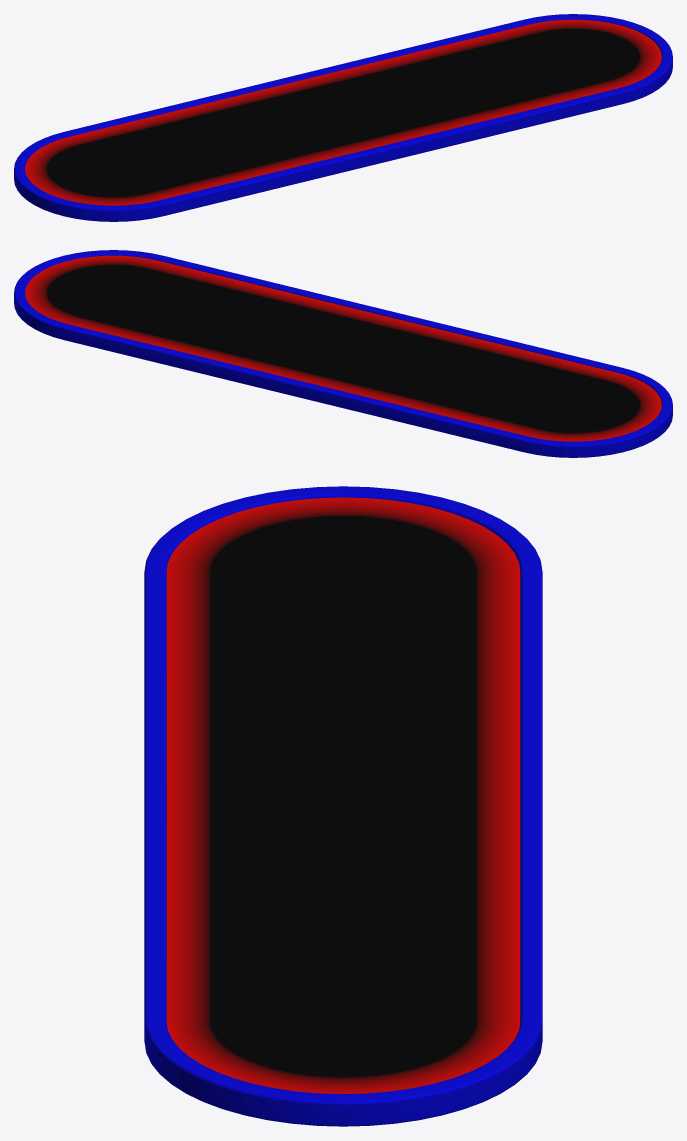
Rendered from sf_mat_platform.fbx.
3 renders of one model, top to bottom at view 1: azimuth 30°, elevation 25°; view 2: azimuth 150°, elevation 25°; view 3: azimuth 270°, elevation 25°, orthographic. The views are drawn at different scales.
Parts seen in each view (by area): view 1: sf_mat_platform; view 2: sf_mat_platform; view 3: sf_mat_platform.
Boxes of the visible parts, x1,y1,x2,y2 form: sf_mat_platform: [14, 14, 672, 221]; sf_mat_platform: [14, 250, 672, 457]; sf_mat_platform: [144, 486, 542, 1126].
Bounding box in the file's own units: 33 × 0.6207 × 9.
